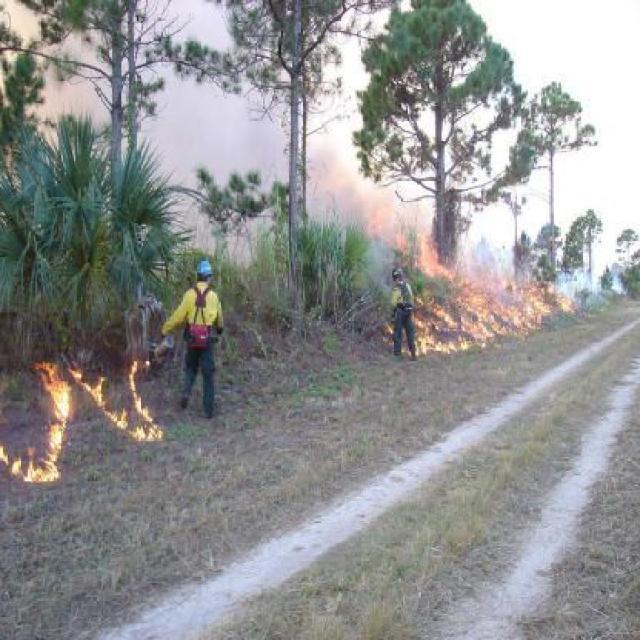Fire: (405, 234, 580, 352), (70, 368, 171, 448), (44, 363, 70, 482), (24, 456, 46, 486), (8, 460, 24, 480), (0, 442, 10, 464)
